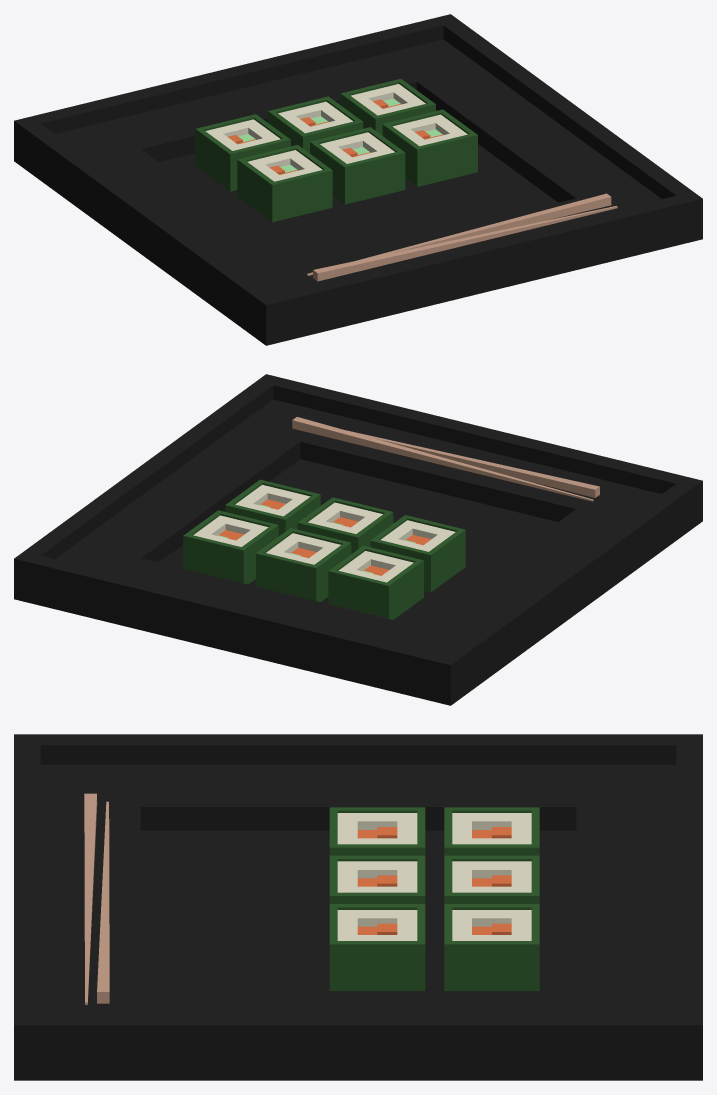
File: maki.fbx
3 views of the same model, one above another, from view 1: azimuth 30°, elevation 25°; view 2: azimuth 150°, elevation 25°; view 3: azimuth 270°, elevation 25° (orthographic). The views are drawn at different scales.
Parts seen in each view (by area): view 1: plateau, maki, baguette.001, baguette; view 2: plateau, maki, baguette, baguette.001; view 3: plateau, maki, baguette.001, baguette.
Part boxes in pixels (x1=…): plateau: x1=14, y1=14, x2=702, y2=345; maki: x1=195, y1=79, x2=477, y2=222; baguette.001: x1=313, y1=206, x2=617, y2=281; baguette: x1=307, y1=193, x2=611, y2=275; plateau: x1=14, y1=374, x2=702, y2=705; maki: x1=183, y1=479, x2=465, y2=619; baguette: x1=292, y1=417, x2=593, y2=501; baguette.001: x1=346, y1=430, x2=599, y2=497; plateau: x1=14, y1=734, x2=702, y2=1080; maki: x1=329, y1=807, x2=539, y2=990; baguette.001: x1=84, y1=793, x2=97, y2=1004; baguette: x1=97, y1=801, x2=109, y2=1003.
Bounding box in the file's own units: 1011 × 103 × 1011.
